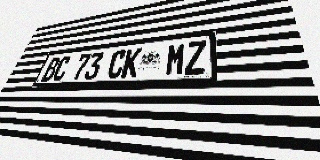3: (83, 52, 104, 80)
7: (71, 53, 92, 80)
B: (41, 57, 61, 82)
C: (106, 49, 127, 79), (51, 56, 72, 81)
K: (120, 48, 142, 78)
M: (165, 43, 186, 76)
Z: (185, 40, 206, 75)
